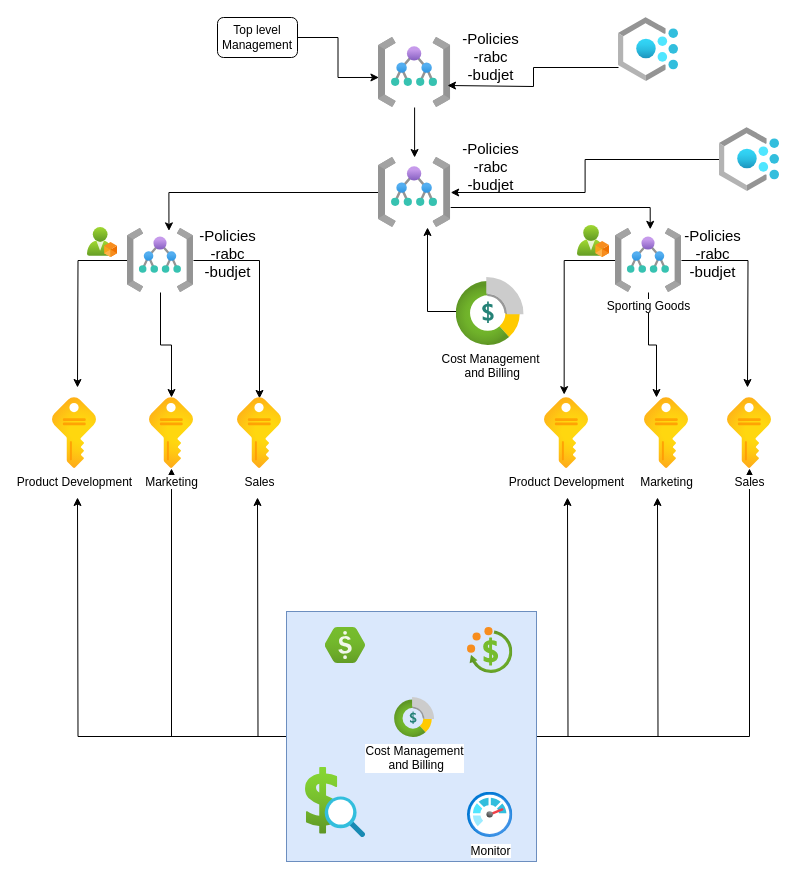
The diagram is 797 pixels wide and 879 high, and some of its shapes have lost their labels. The centre of each missing label's shape, as x and y in pixels:
"Apparel" goes at (x=160, y=260).
"Cost analysis" goes at (x=335, y=802).
"Cost Budget" goes at (x=489, y=650).
"Cost Management" goes at (x=345, y=645).
"IT Management Group" goes at (x=414, y=192).
"Tailwind Traders Tanent" goes at (x=414, y=72).
